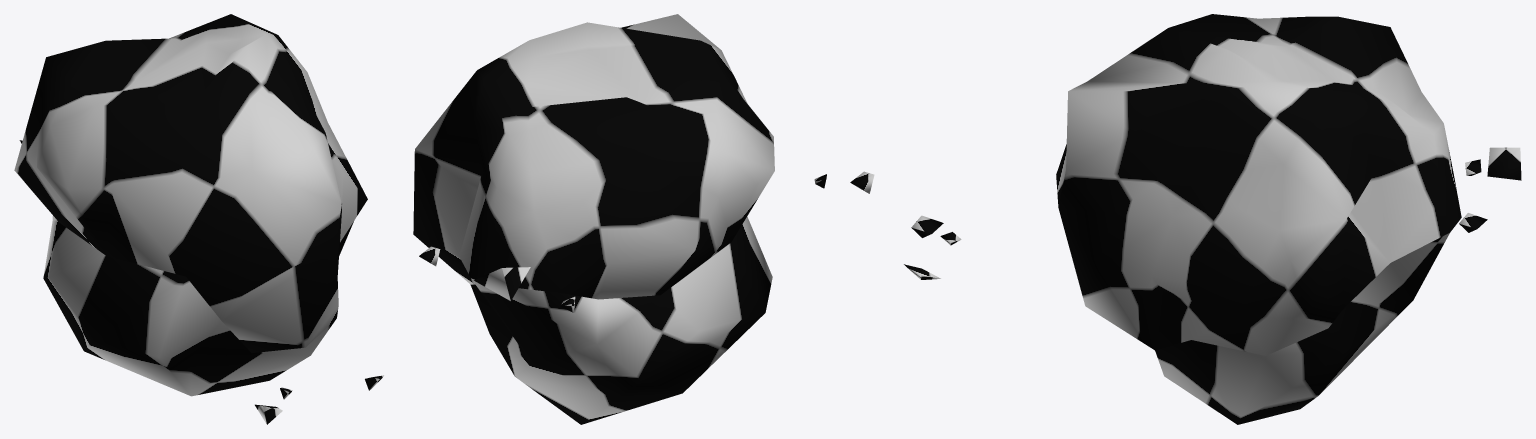
File: mine_asteroid.obj
3 views of the same model, side by side, from view 1: azimuth 30°, elevation 25°; view 2: azimuth 150°, elevation 25°; view 3: azimuth 270°, elevation 25° (orthographic). The views are drawn at different scales.
Visible parts, largest first — view 1: cbs_mine_asteroid; view 2: cbs_mine_asteroid; view 3: cbs_mine_asteroid.
Boxes of the visible parts, x1,y1,x2,y2 form: cbs_mine_asteroid: (14,14,383,424); cbs_mine_asteroid: (413,14,874,424); cbs_mine_asteroid: (904,14,1521,424).
Size of the model in its own units: 91.37 by 101 by 151.
1 material, 1 textured.
